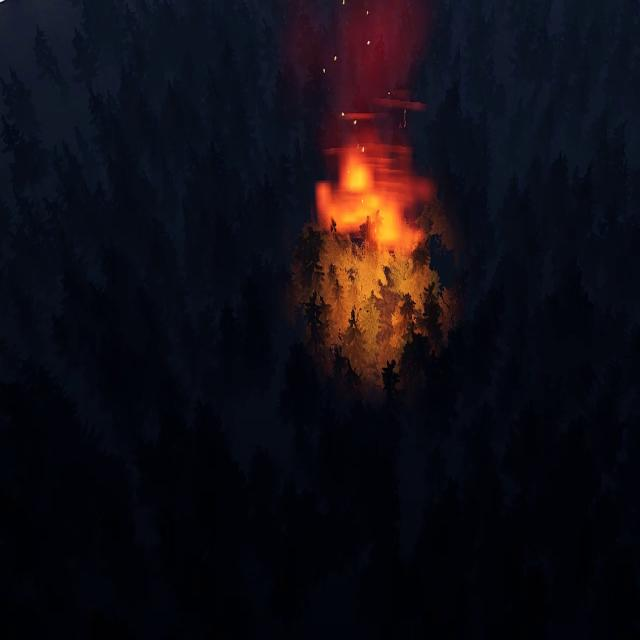fire: (318, 146, 438, 254)
smoke: (292, 2, 432, 138)
